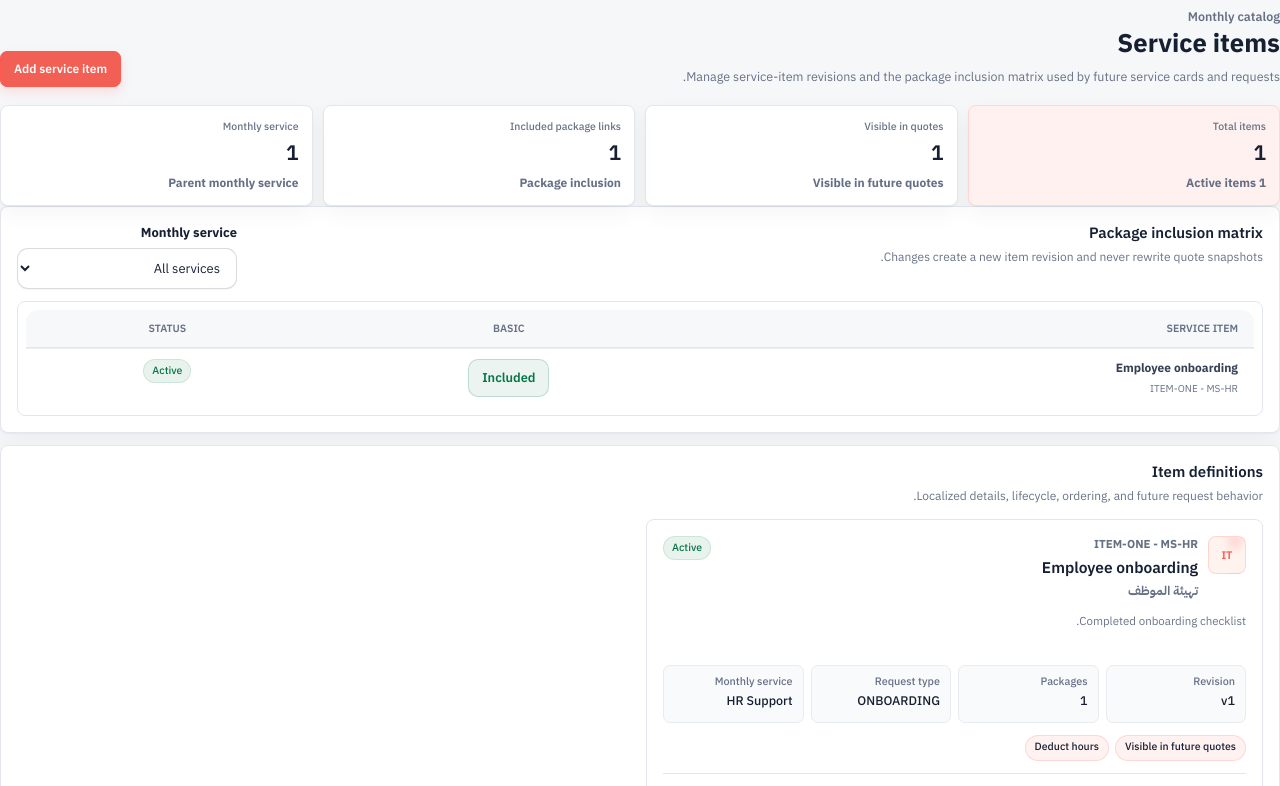
Test: Admin catalog UI › renders service items without a duplicate intro and opens the item form
Check: the number of headings "Package inclusion matrix" is 1, box [1089,222,1263,244]
Check: the heading "Employee onboarding" is shown, box [1042,556,1198,579]
Click the button "Add service item" at (61, 69), box [0,51,121,87]
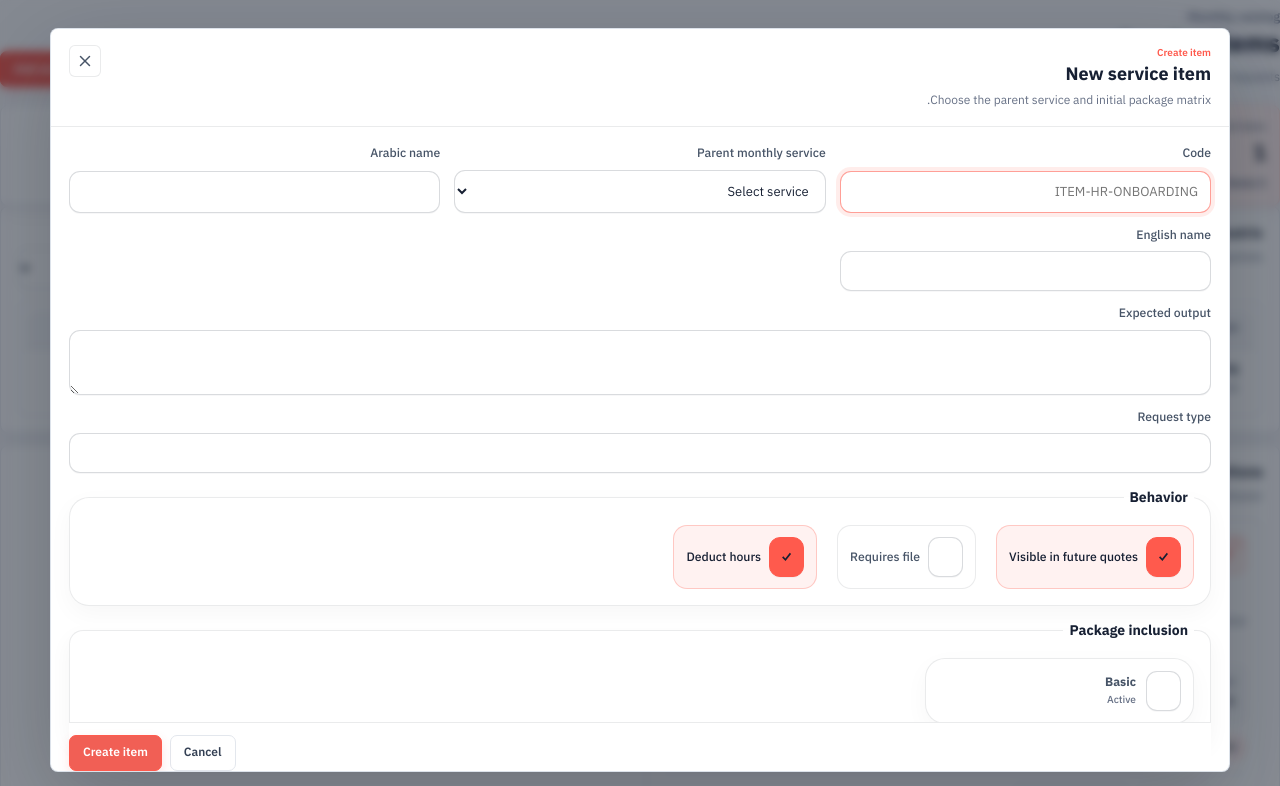
Check: the dialog "New service item" is shown
Check: the heading "New service item" is shown, box [1065,60,1211,86]
Check: the field labelled "Code" is shown, box [840,171,1211,213]
